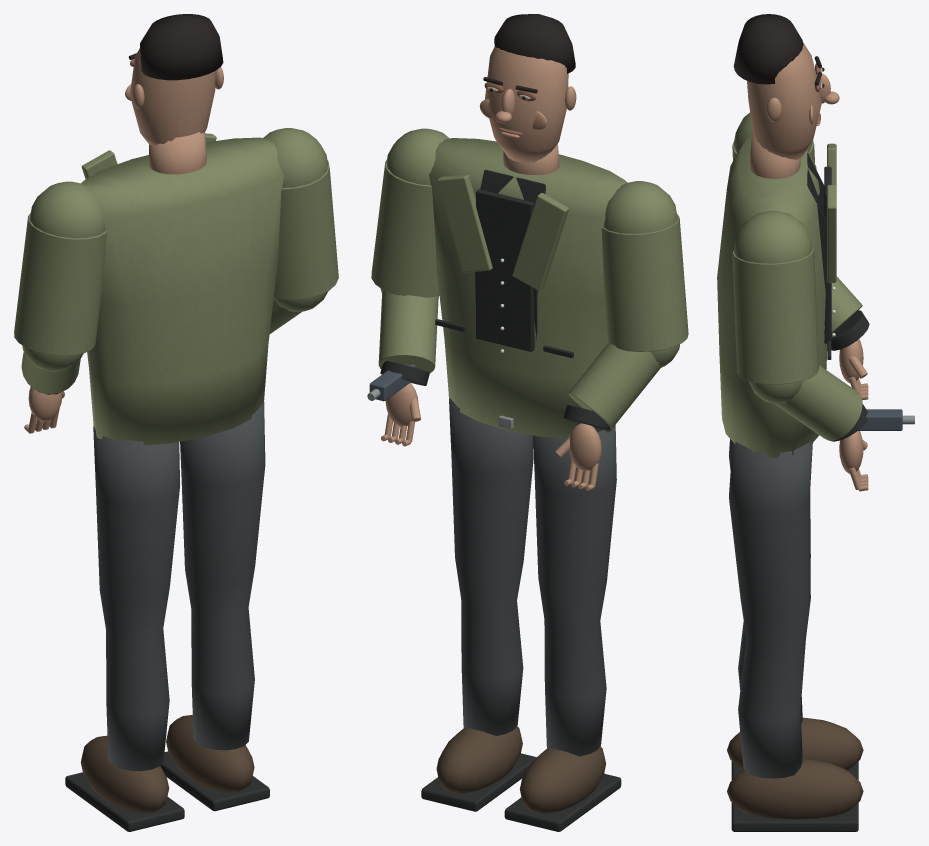
The model's file is enforcer.glb.
3 views of the same model, side by side, from view 1: azimuth 30°, elevation 25°; view 2: azimuth 150°, elevation 25°; view 3: azimuth 270°, elevation 25° (orthographic). The views are drawn at different scales.
Visible parts, largest first — view 1: enforcer__TORSO, enforcer__LEG_L, enforcer__LEG_R, enforcer__ARM_L, enforcer__HEAD, enforcer__ARM_R, enforcer__FOREARM_L, enforcer__FOREARM_R, enforcer__BODY; view 2: enforcer__TORSO, enforcer__LEG_R, enforcer__LEG_L, enforcer__BODY, enforcer__ARM_L, enforcer__HEAD, enforcer__ARM_R, enforcer__FOREARM_L, enforcer__FOREARM_R; view 3: enforcer__LEG_R, enforcer__TORSO, enforcer__ARM_R, enforcer__HEAD, enforcer__FOREARM_R, enforcer__LEG_L, enforcer__FOREARM_L, enforcer__BODY, enforcer__ARM_L.
Boxes of the visible parts, x1,y1,x2,y2 form: enforcer__TORSO: [81, 137, 284, 445]; enforcer__LEG_L: [65, 426, 184, 831]; enforcer__LEG_R: [160, 401, 269, 811]; enforcer__ARM_L: [14, 181, 106, 355]; enforcer__HEAD: [125, 14, 223, 174]; enforcer__ARM_R: [263, 128, 338, 299]; enforcer__FOREARM_L: [21, 345, 83, 433]; enforcer__FOREARM_R: [269, 291, 328, 333]; enforcer__BODY: [81, 133, 216, 179]; enforcer__TORSO: [429, 138, 627, 438]; enforcer__LEG_R: [421, 398, 536, 811]; enforcer__LEG_L: [504, 425, 621, 831]; enforcer__BODY: [435, 174, 573, 429]; enforcer__ARM_L: [601, 181, 688, 351]; enforcer__HEAD: [479, 14, 576, 174]; enforcer__ARM_R: [371, 128, 449, 297]; enforcer__FOREARM_L: [555, 342, 679, 490]; enforcer__FOREARM_R: [367, 288, 439, 446]; enforcer__LEG_R: [727, 441, 863, 831]; enforcer__TORSO: [717, 131, 835, 458]; enforcer__ARM_R: [732, 210, 818, 384]; enforcer__HEAD: [733, 14, 839, 178]; enforcer__FOREARM_R: [749, 365, 914, 491]; enforcer__LEG_L: [727, 439, 863, 780]; enforcer__FOREARM_L: [831, 276, 869, 400]; enforcer__BODY: [824, 143, 836, 359]; enforcer__ARM_L: [732, 112, 814, 163].
Bounding box in the file's own units: 0.7366 × 1.76 × 0.405.
Materials: 1 (1 with a texture image).
